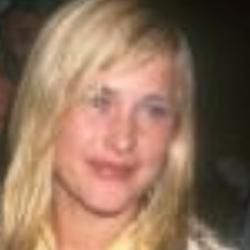face: (4, 2, 219, 239)
